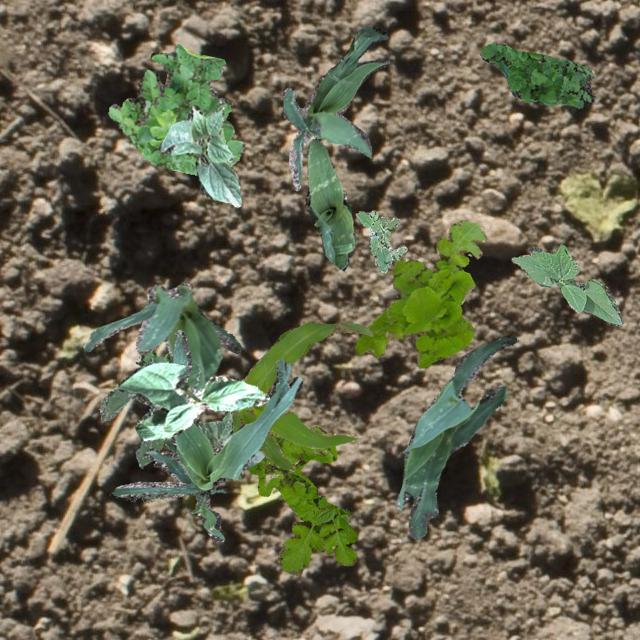crop: (111, 328, 302, 542), (394, 333, 516, 538), (230, 320, 372, 470), (282, 27, 388, 190), (82, 282, 240, 390), (116, 362, 268, 439), (511, 243, 622, 324), (157, 105, 240, 206), (304, 136, 354, 270), (163, 409, 265, 468)
weed: (354, 218, 486, 368), (108, 43, 245, 174), (248, 426, 356, 574), (98, 356, 200, 466), (479, 42, 594, 108), (354, 208, 406, 272), (136, 348, 172, 366)
